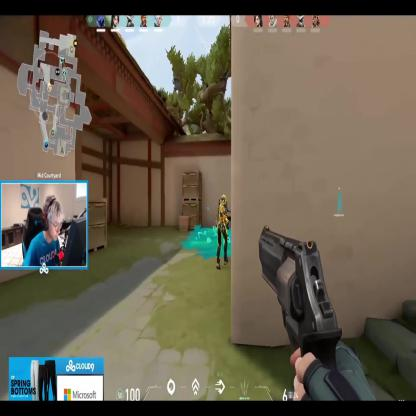enemy: (214, 192, 232, 270)
enemy_head: (221, 194, 226, 206)
